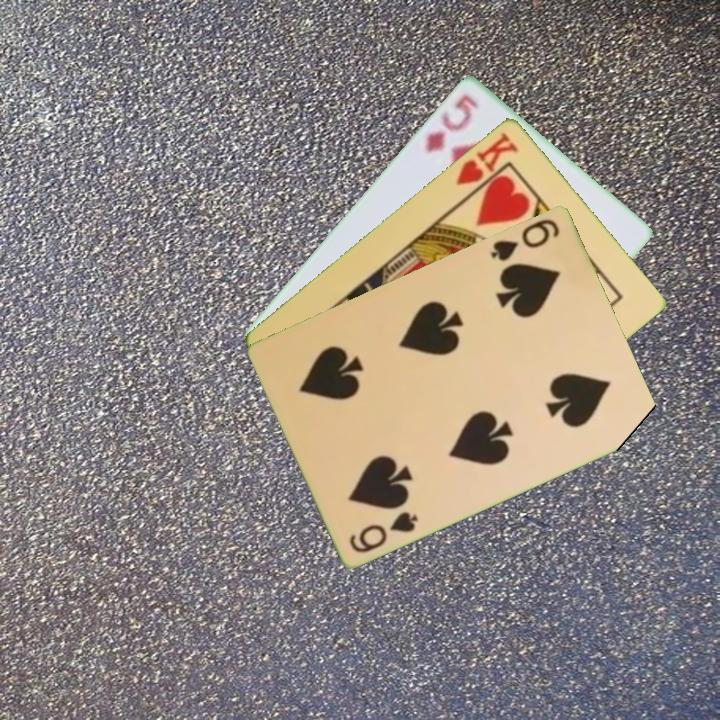5d: (421, 90, 483, 156)
6s: (487, 214, 563, 264), (345, 507, 422, 556)
Kh: (452, 127, 521, 201)
